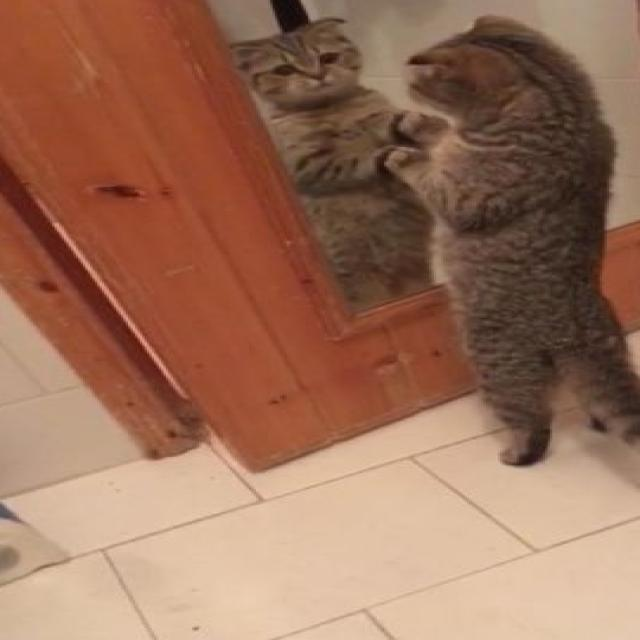Scottish Fold: (384, 15, 640, 481), (202, 10, 442, 312)
